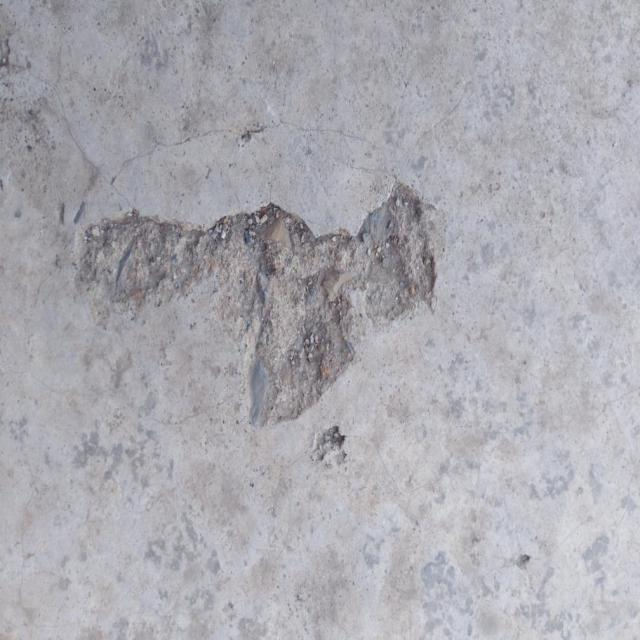concrete spalling: (78, 177, 436, 430), (305, 422, 348, 468), (514, 552, 530, 570)
horizontal crack: (0, 366, 246, 427)
multi-branched crack: (0, 24, 503, 211), (30, 268, 52, 314)
